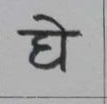e_matra: (34, 14, 70, 30)
